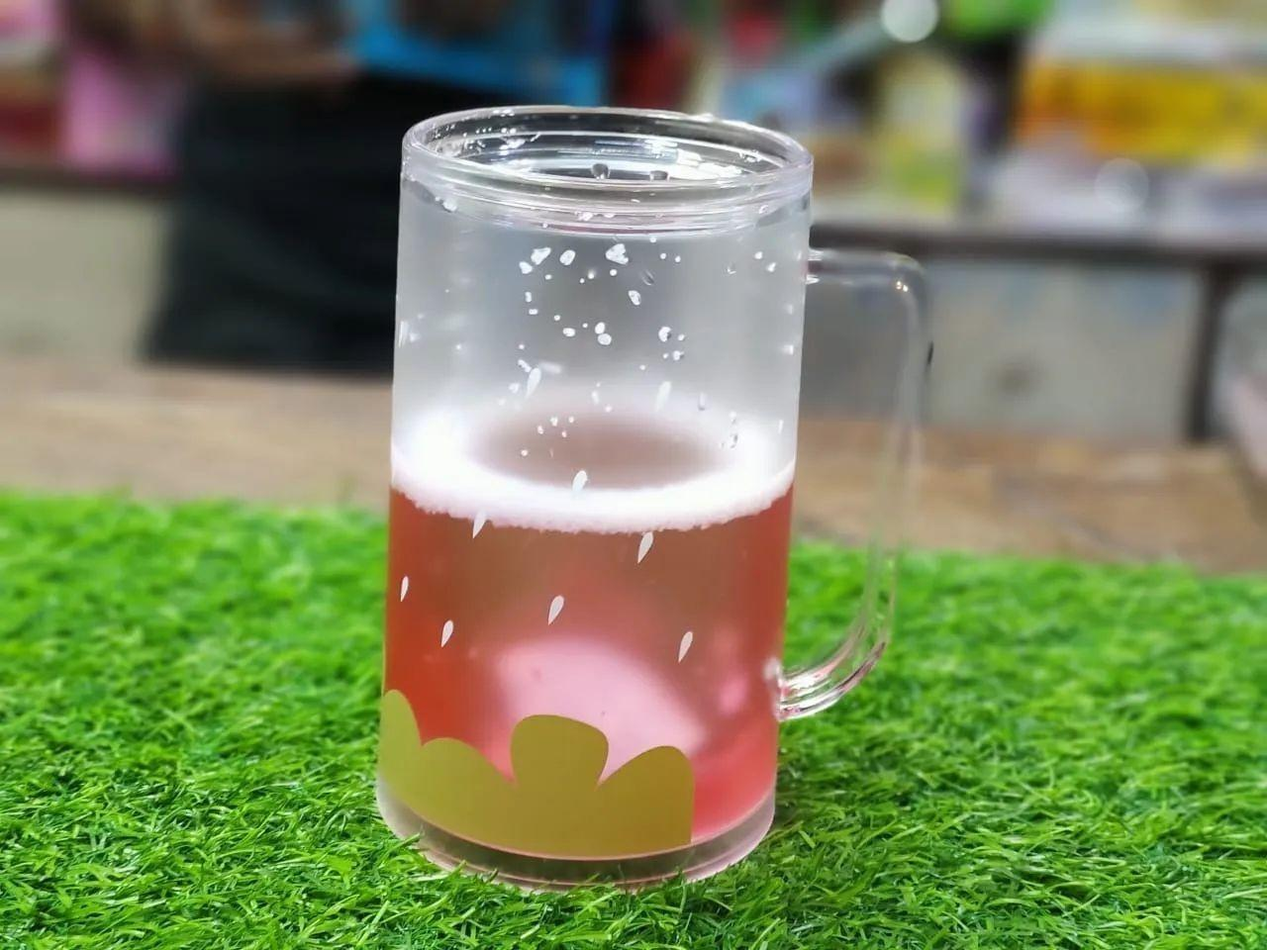glass-mug: (373, 93, 938, 897)
